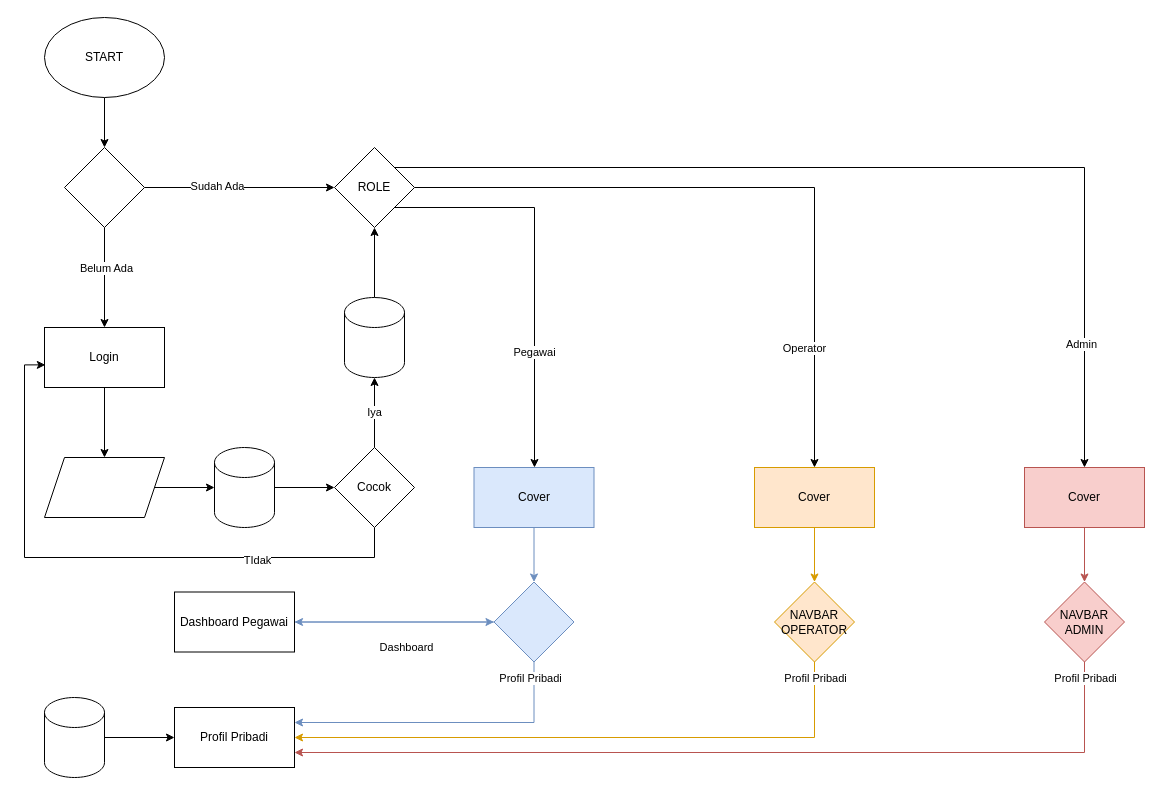
Some shapes in this 1162 by 795 pixel diagram are drawn without their labels. The shapes that lost their labels are listed below. From the top down, each one's centre as x and y in pixels, then its label:
pixel 104 187: SESSION
pixel 374 337: Ambil Role Sesuai ID
pixel 104 487: Input Username Password
pixel 244 487: Verifikasi
pixel 533 621: NAVBAR PEGAWAI
pixel 74 737: Data Pribadi
